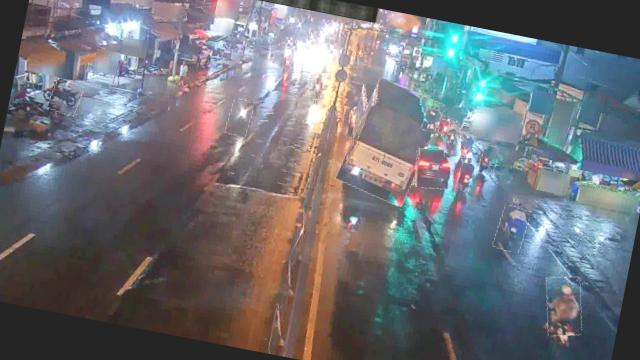Bike: (538, 272, 588, 340), (494, 204, 530, 254), (46, 78, 84, 116), (226, 97, 256, 138), (439, 126, 464, 159), (306, 72, 330, 102), (478, 144, 499, 176), (456, 160, 475, 192), (455, 131, 476, 159), (422, 108, 439, 132), (436, 118, 451, 138)
Car: (412, 144, 458, 192)
Truck: (338, 76, 442, 208)
